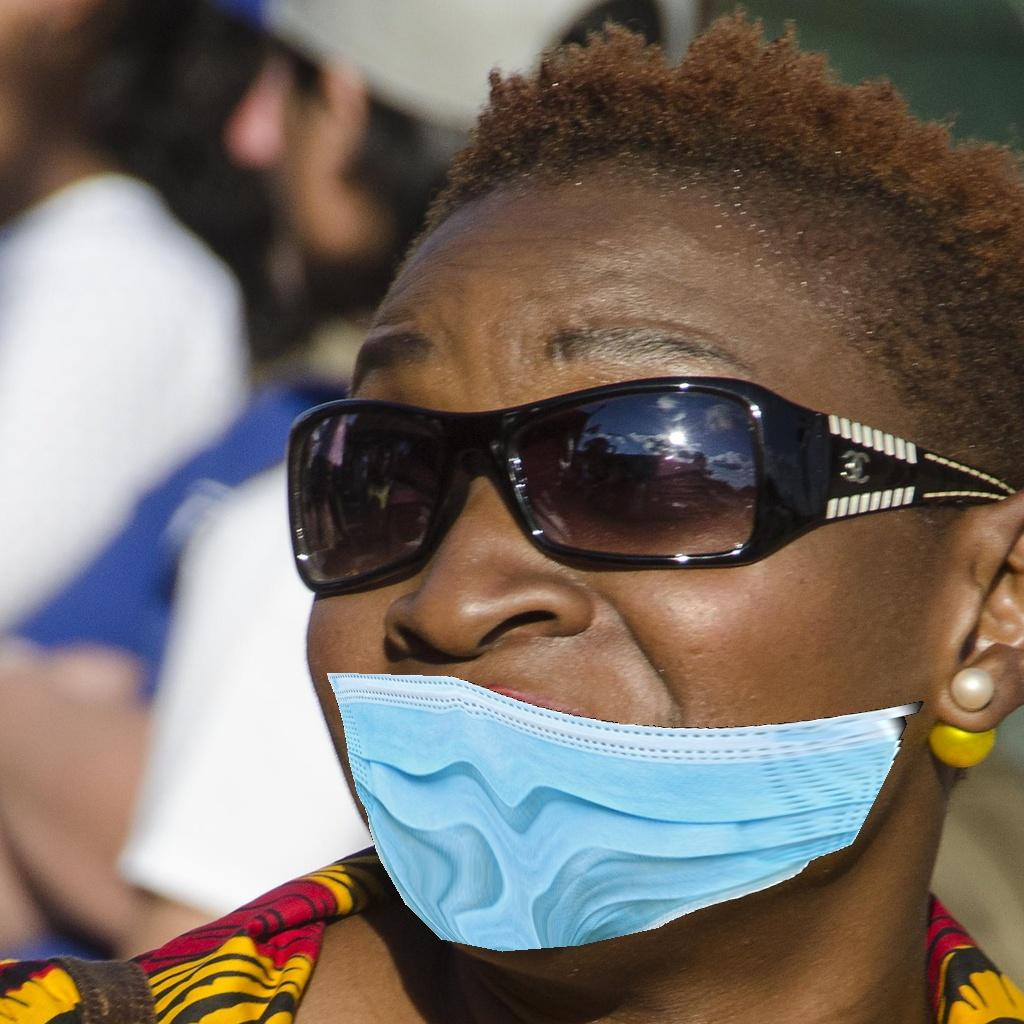Máscara Incorreta: (270, 321, 940, 953)
